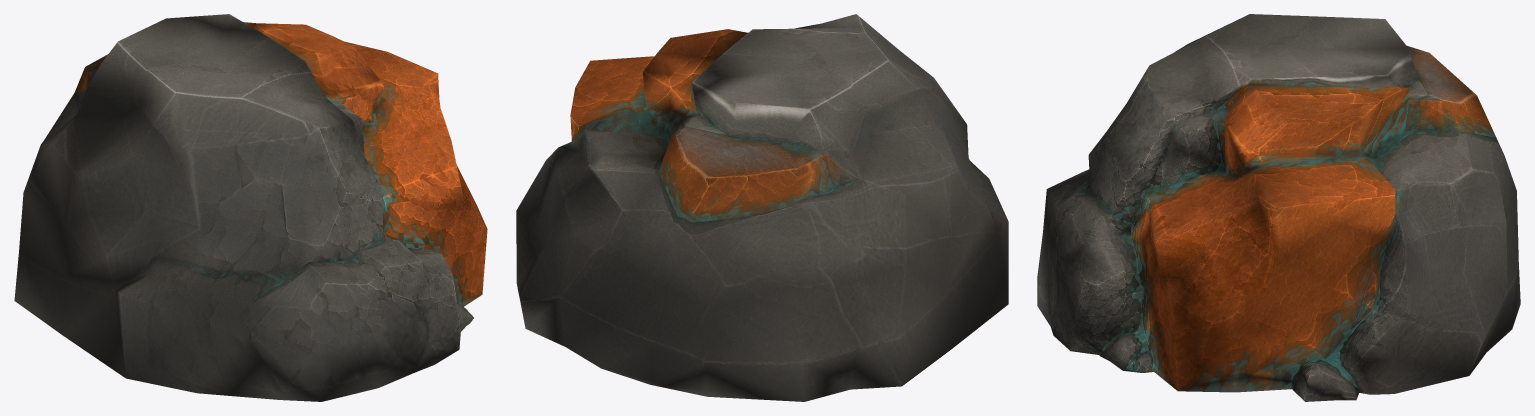
Rendered from Meshy_AI_Emberstone_Ore_0831110549_texture.fbx.
The picture shows the model from 3 angles, left to right: view 1: azimuth 30°, elevation 25°; view 2: azimuth 150°, elevation 25°; view 3: azimuth 270°, elevation 25°; orthographic projection. The views are drawn at different scales.
Parts seen in each view (by area): view 1: mesh_node; view 2: mesh_node; view 3: mesh_node.
Boxes of the visible parts, <box> form: mesh_node: <box>14,14,487,401</box>; mesh_node: <box>516,14,1008,401</box>; mesh_node: <box>1037,14,1520,401</box>.
Size of the model in its own units: 92.58 by 55.47 by 99.41.
1 material, 1 textured.
